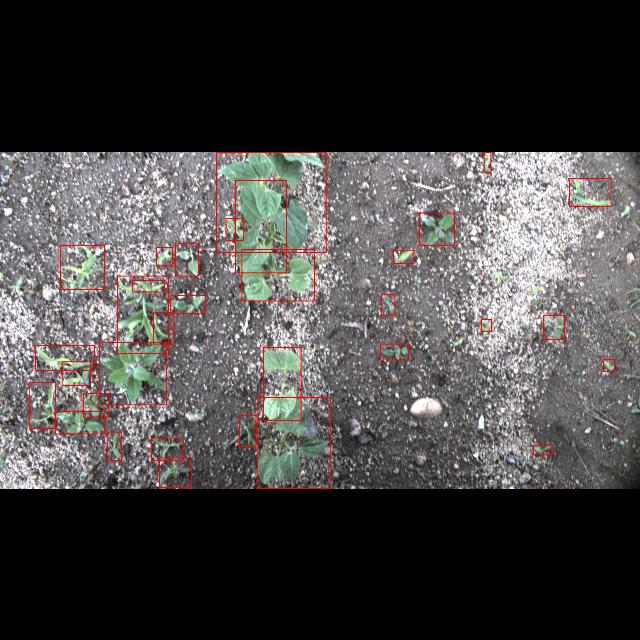crop: (216, 152, 326, 252), (258, 398, 330, 488), (236, 180, 286, 272), (242, 248, 314, 300), (263, 348, 301, 420)
weed: (100, 342, 167, 404), (118, 275, 168, 353), (60, 245, 104, 289), (36, 344, 94, 370), (30, 382, 56, 428), (55, 411, 105, 434), (570, 178, 610, 206), (420, 212, 454, 244), (159, 457, 191, 487), (151, 438, 183, 460), (176, 243, 198, 275), (61, 361, 90, 385), (153, 311, 174, 343), (170, 295, 206, 313), (83, 393, 109, 417), (544, 314, 564, 340), (240, 414, 256, 446), (106, 432, 122, 461), (380, 343, 408, 359), (226, 217, 244, 239), (132, 280, 164, 292), (156, 246, 172, 264), (394, 249, 414, 263), (382, 294, 394, 314), (534, 444, 552, 454), (484, 151, 491, 171), (604, 359, 614, 371), (481, 319, 491, 331)
